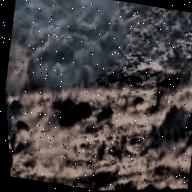boar: (64, 96, 102, 122), (94, 97, 115, 127)
